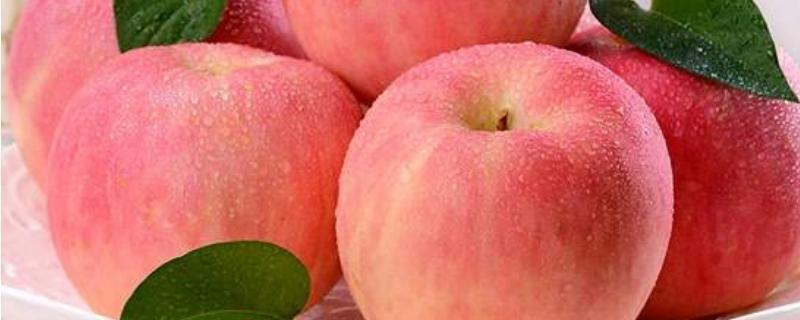apple: (333, 42, 675, 319), (41, 44, 372, 320)
